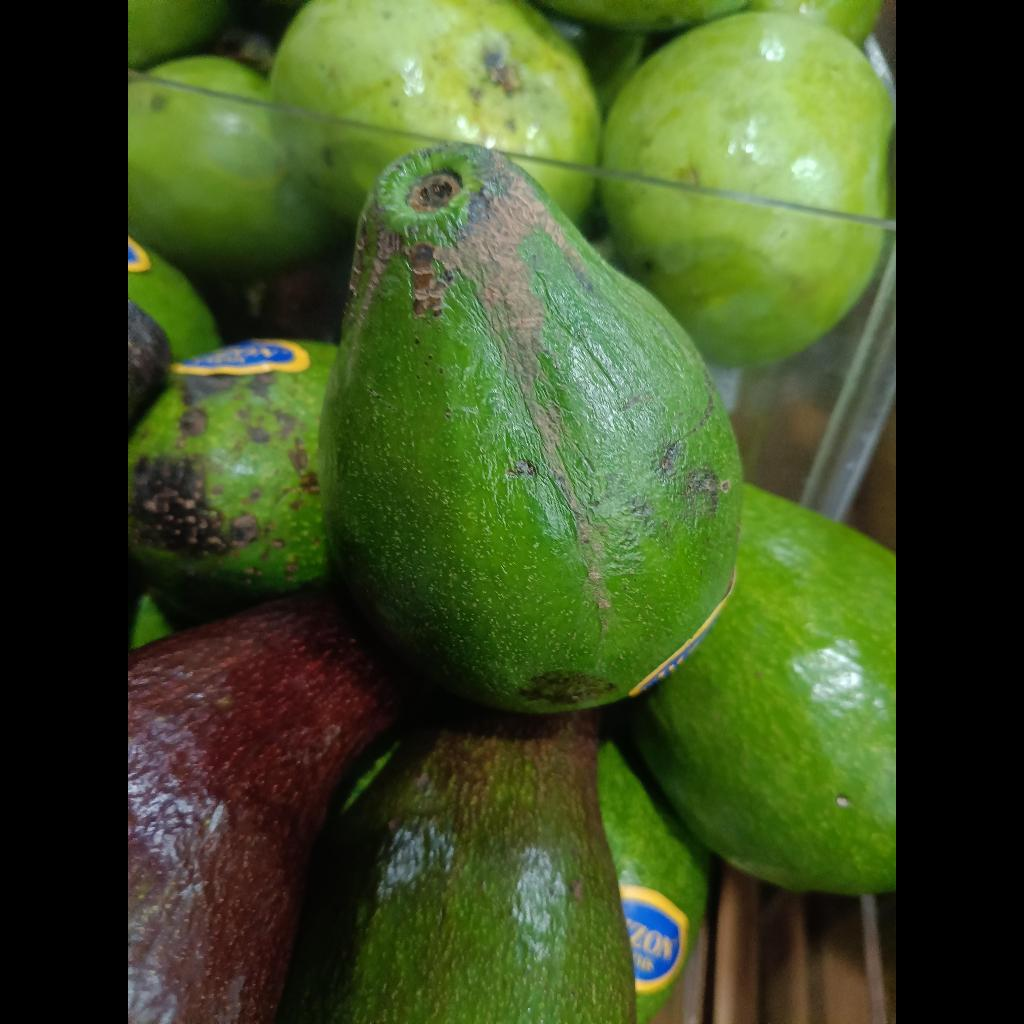scab: (319, 143, 742, 713)
